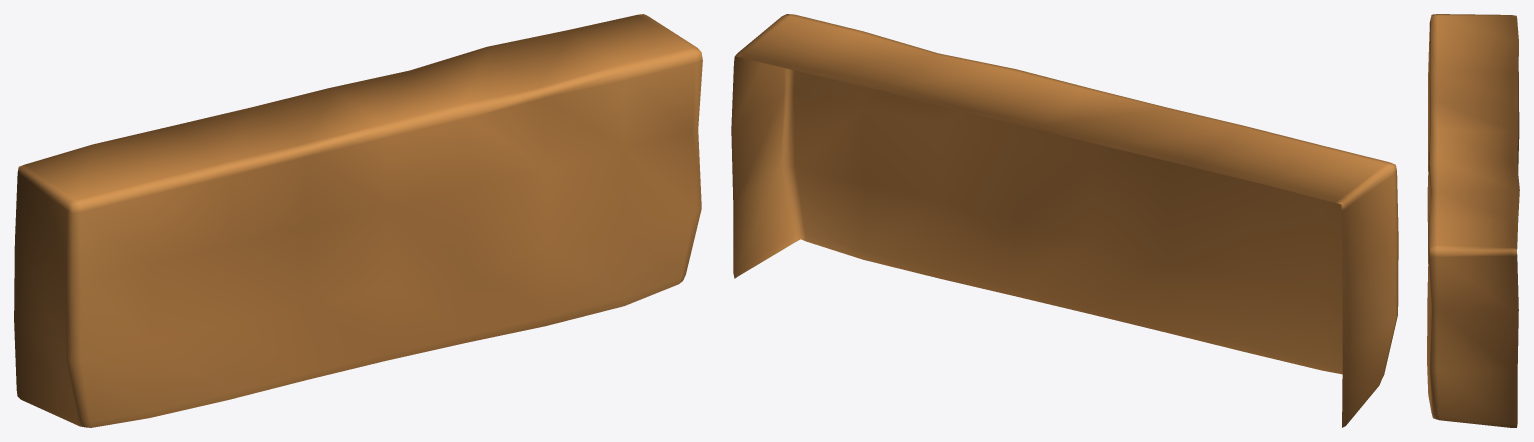
Rendered from block_l2.glb.
The picture shows the model from 3 angles, left to right: view 1: azimuth 30°, elevation 25°; view 2: azimuth 150°, elevation 25°; view 3: azimuth 270°, elevation 25°; orthographic projection. The views are drawn at different scales.
Visible parts, largest first — view 1: block_l2; view 2: block_l2; view 3: block_l2.
Part boxes in pixels (x1,y1,x2,y2): block_l2: (14, 14, 702, 427); block_l2: (731, 14, 1398, 427); block_l2: (1427, 14, 1519, 427).
Bounding box in the file's own units: 2.81 × 1.01 × 0.4613.
